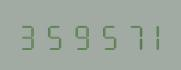five: (41, 20, 64, 50), (90, 20, 113, 50)
nine: (66, 20, 89, 50)
one: (138, 20, 161, 50)
seven: (114, 20, 137, 50)
three: (17, 20, 40, 50)
